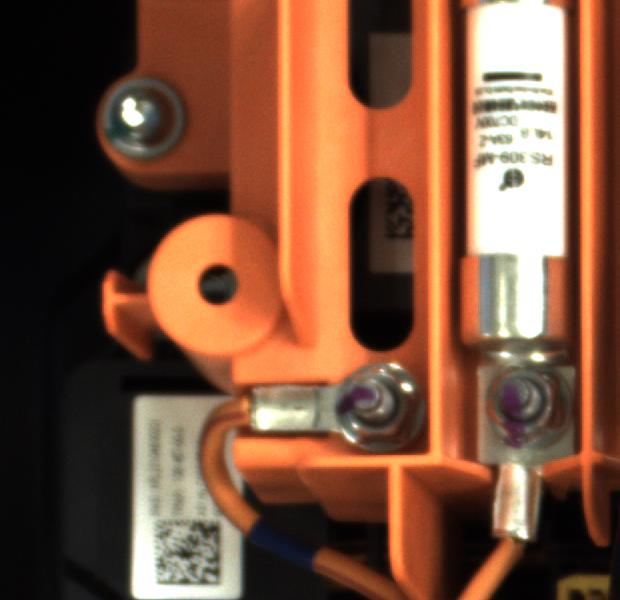screw_m: (85, 68, 203, 177)
screw_s: (332, 357, 432, 456), (489, 360, 572, 449)
